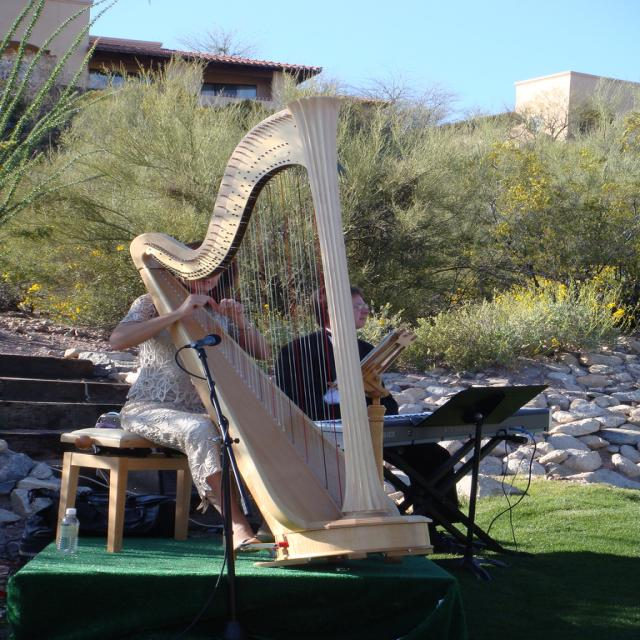harp: (127, 94, 438, 564)
